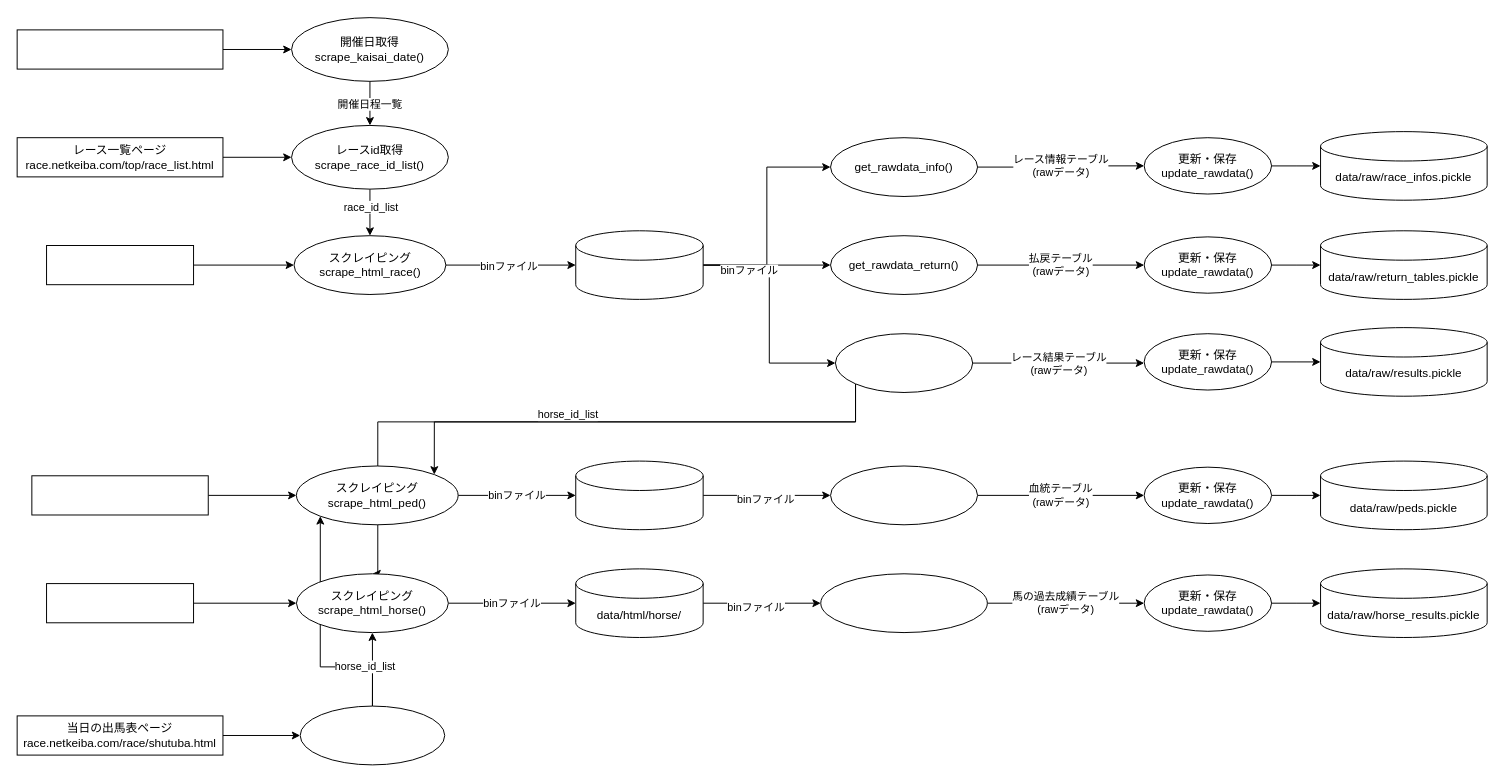
The diagram is 1504 pixels wide and 782 high, and some of its shapes have lost their labels. The shapes that lost their labels are listed below. From the top down, each one's box as (x1, y1, x2, y2) in pixels, then its label:
(16, 29, 223, 69): 開催日程ページ race.netkeiba.com/top/calendar.html
(46, 245, 194, 285): レース結果ページ db.netkeiba.com/race/
(575, 230, 703, 299): data/html/race/
(834, 333, 973, 392): get_rawdata_results()
(31, 475, 208, 515): 血統ページ db.netkeiba.com/horse/ped/
(575, 460, 703, 530): data/html/ped/
(830, 465, 978, 525): get_rawdata_peds()
(46, 583, 194, 623): 馬の過去成績ページ db.netkeiba.com/horse/
(820, 573, 987, 633): get_rawdata_horse_results()
(299, 705, 445, 765): 出走する馬を取得 scrape_horse_id_list()
